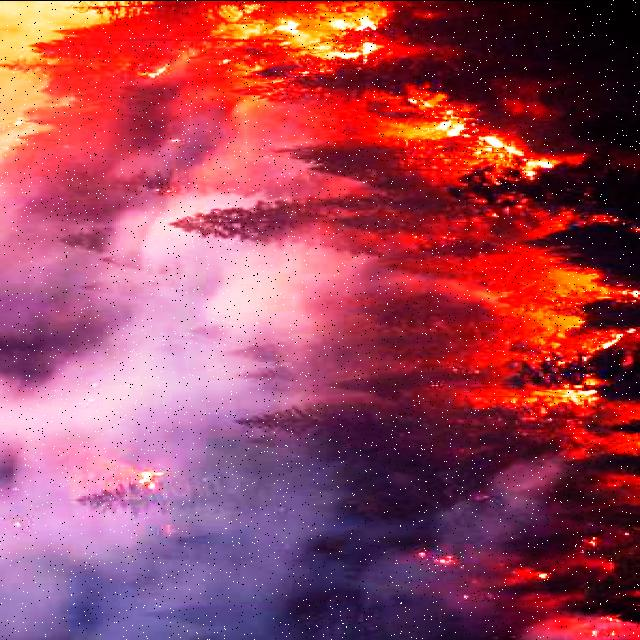api: (513, 281, 640, 415), (370, 95, 556, 186), (218, 1, 385, 63), (130, 469, 164, 483)
asap: (6, 207, 315, 463), (1, 493, 300, 640), (325, 466, 576, 634), (135, 94, 313, 196)
